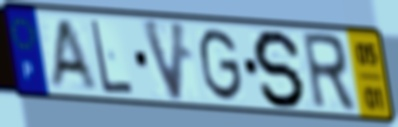A: (46, 17, 99, 90)
G: (198, 26, 246, 104)
L: (88, 17, 136, 97)
R: (299, 30, 359, 115)
S: (251, 27, 308, 111)
V: (138, 16, 190, 105)
